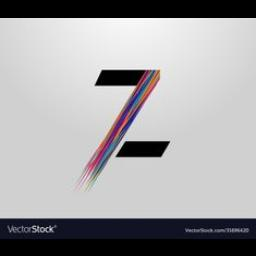z: (93, 60, 175, 160)
